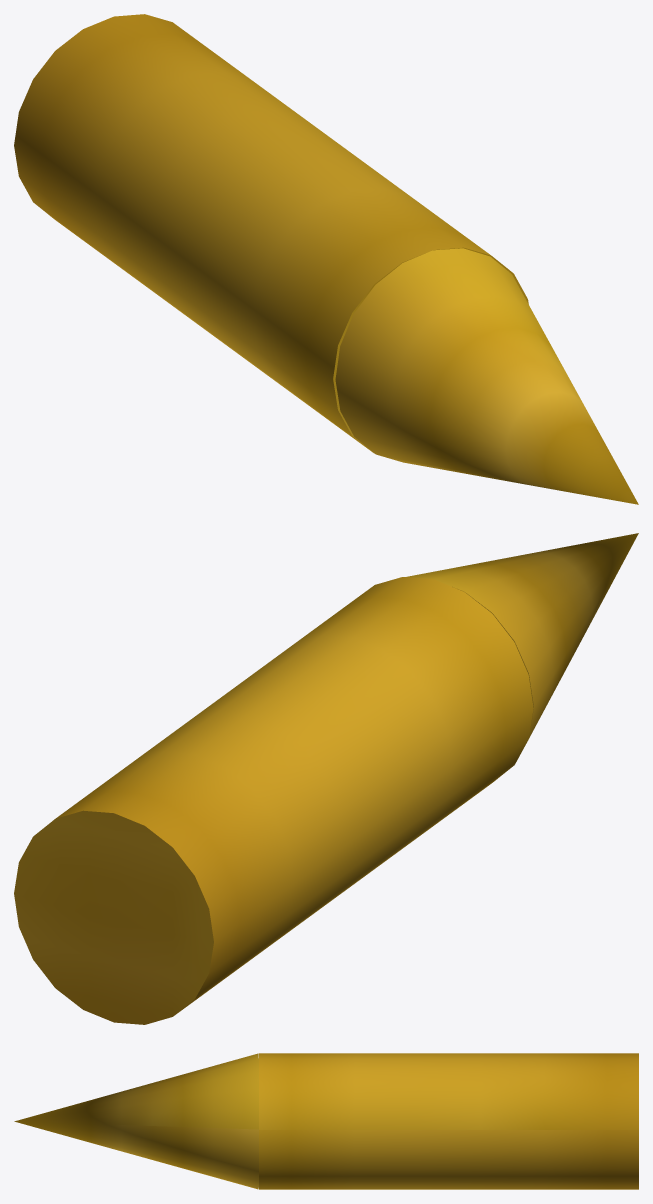
Rendered from bullet.fbx.
3 views of the same model, one above another, from view 1: azimuth 30°, elevation 25°; view 2: azimuth 150°, elevation 25°; view 3: azimuth 270°, elevation 25° (orthographic). The views are drawn at different scales.
Visible parts, largest first — view 1: pCylinder1, pCone1; view 2: pCylinder1, pCone1; view 3: pCylinder1, pCone1.
Boxes of the visible parts, box(x1,y1,x2,y2) form: pCylinder1: box(14, 14, 528, 453); pCone1: box(335, 248, 638, 504); pCylinder1: box(14, 577, 533, 1024); pCone1: box(406, 533, 638, 761); pCylinder1: box(259, 1053, 638, 1189); pCone1: box(14, 1053, 258, 1189).
Bounding box in the file's own units: 4.55 × 4.55 × 20.69.
Materials: 1 (1 with a texture image).
